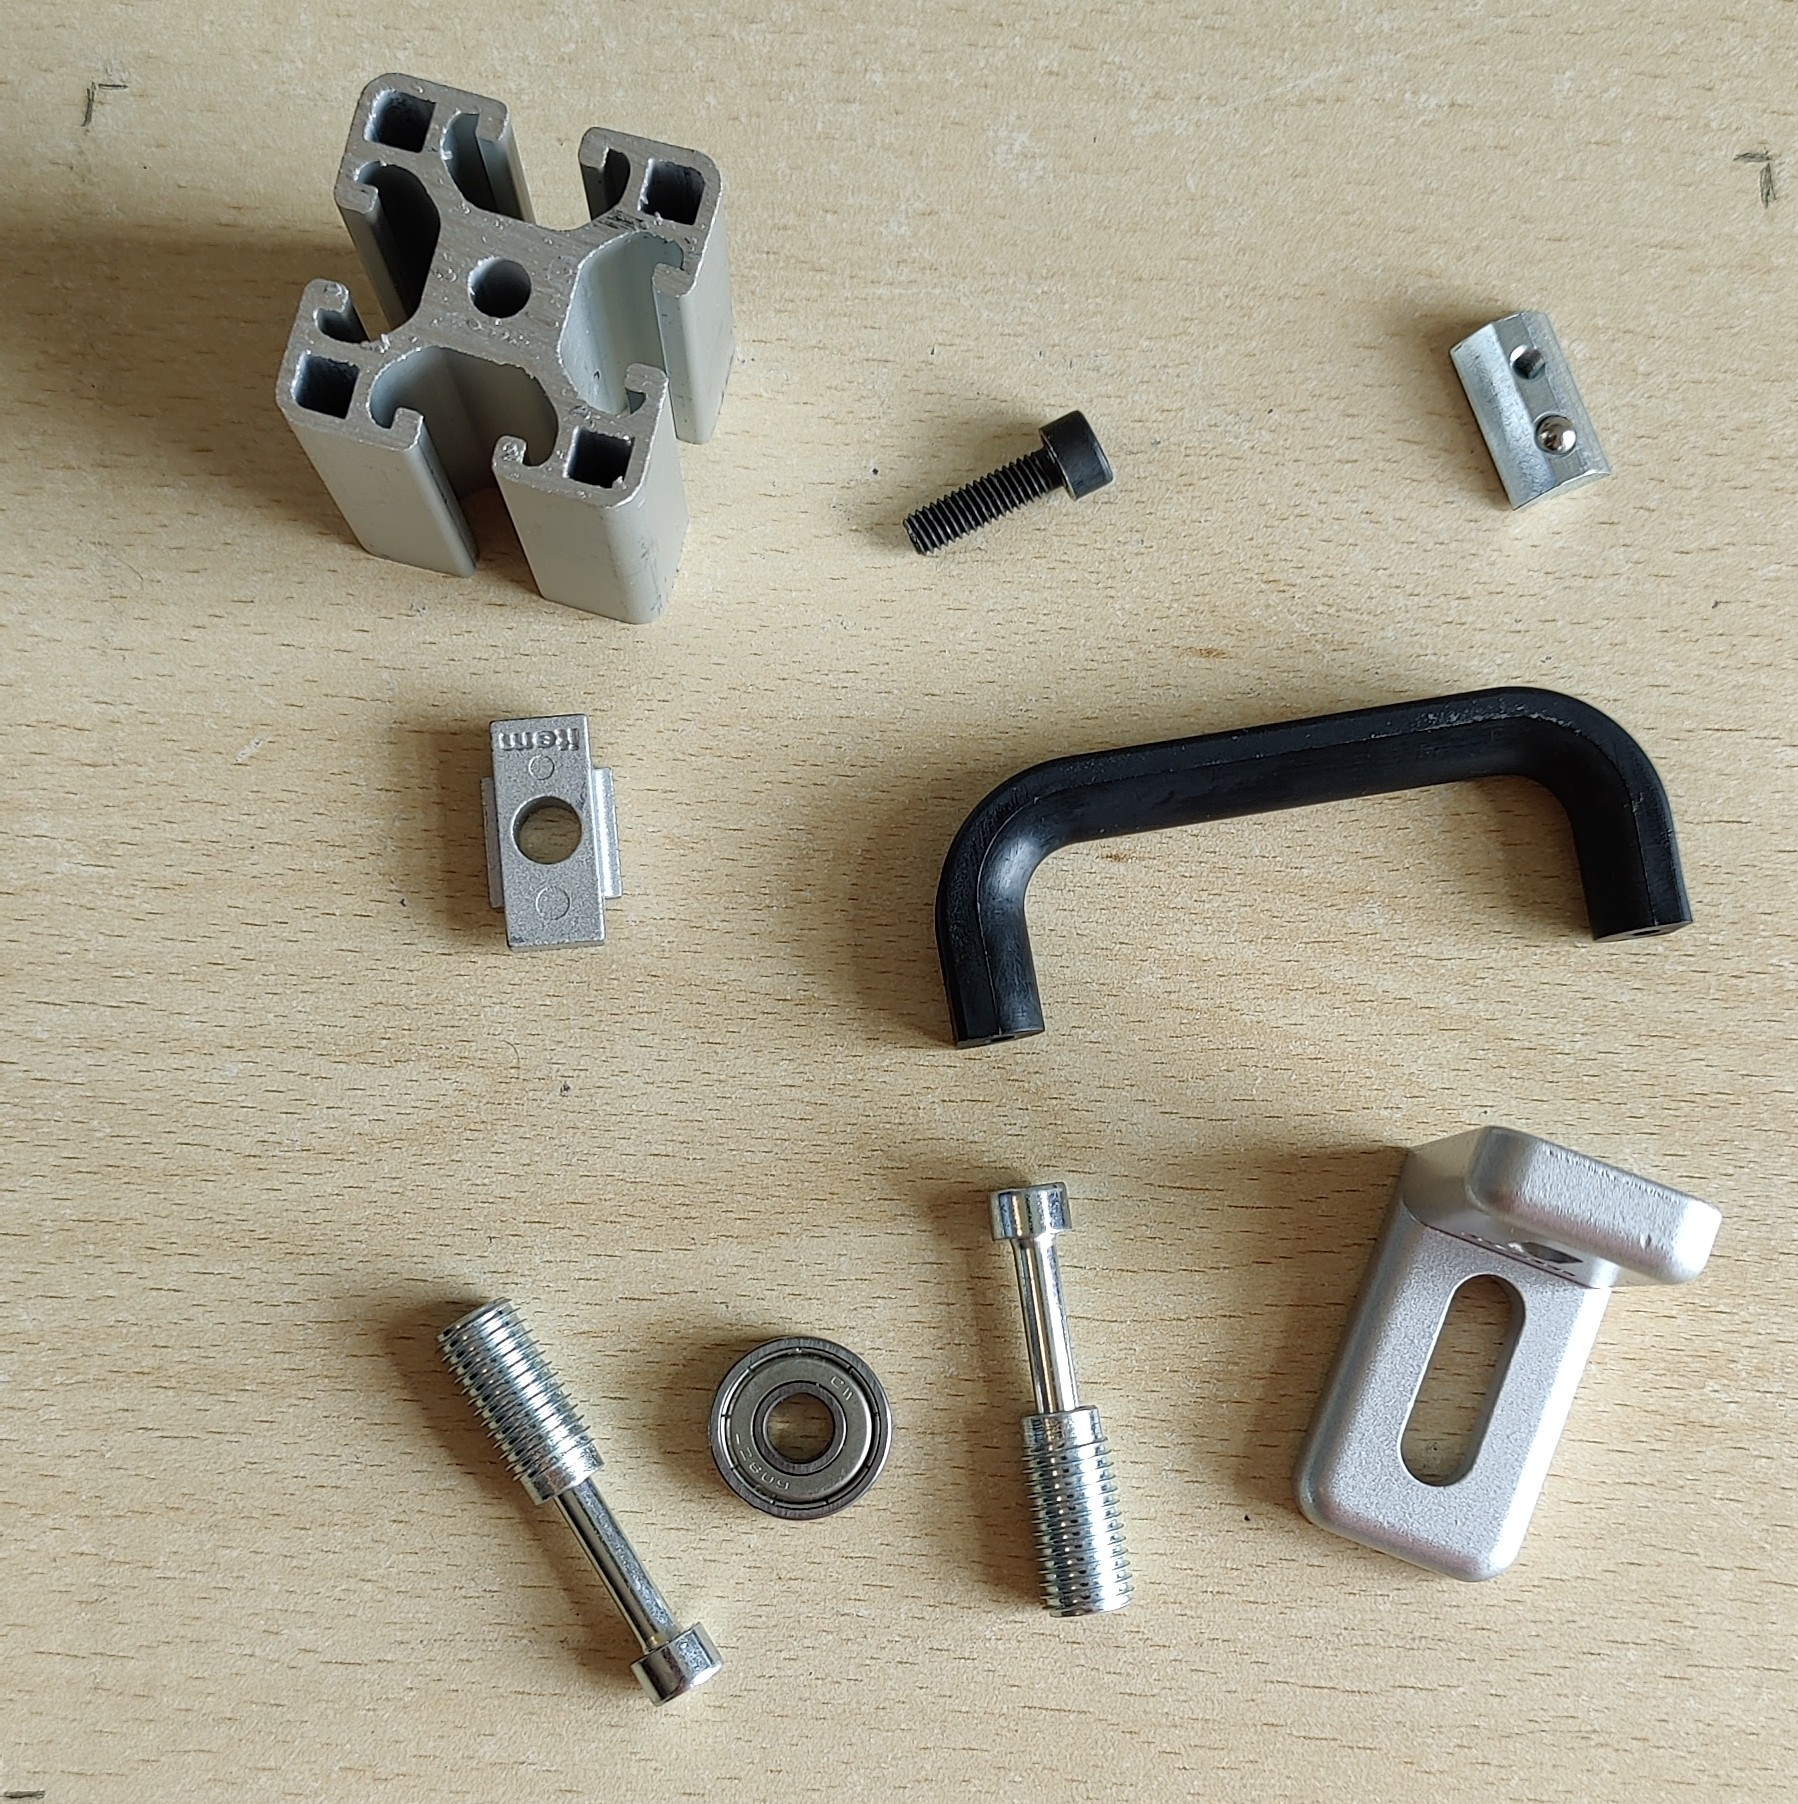Aluminium Extension: (272, 67, 739, 634)
Ball Bearing: (703, 1332, 896, 1523)
Multiwinkel: (1293, 1126, 1726, 1585)
Pull Handle: (934, 681, 1693, 1052)
Shoulder Socket Head Cap Screw: (431, 1294, 728, 1712), (981, 1179, 1139, 1621)
Socket Head Cap Screw: (899, 405, 1115, 560)
T Nut Square: (476, 708, 629, 956)
T Spring Nut: (1444, 305, 1615, 515)
